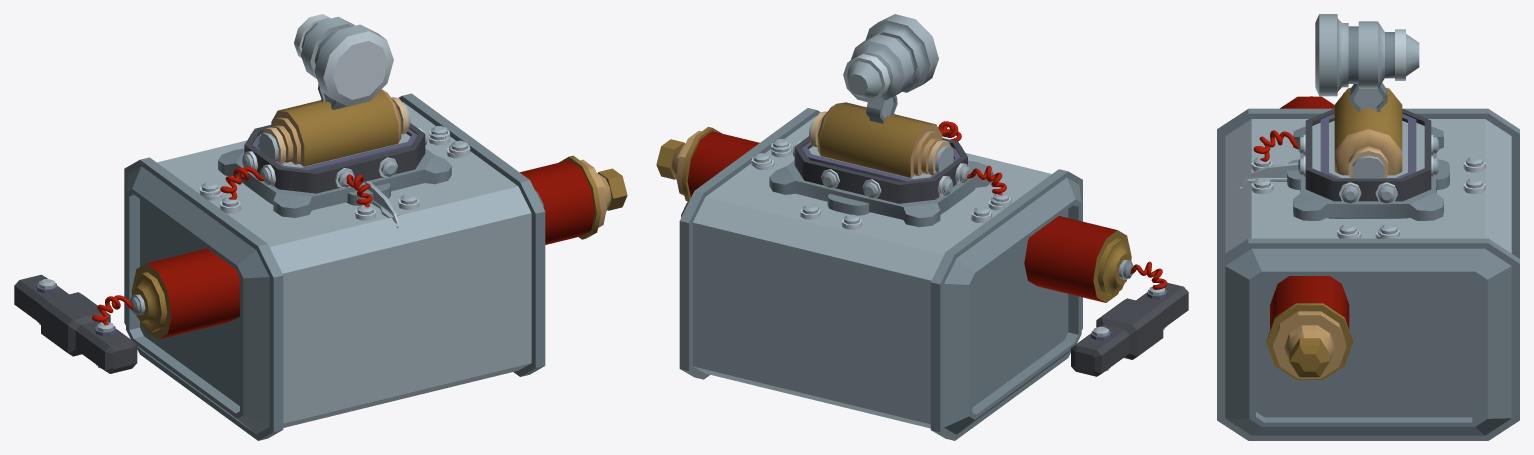
The model's file is DCTRW_parts.fbx.
3 renders of one model, left to right at view 1: azimuth 30°, elevation 25°; view 2: azimuth 150°, elevation 25°; view 3: azimuth 270°, elevation 25°, orthographic. The views are drawn at different scales.
Visible parts, largest first — view 1: BombCase, boomStick, Timer, Hammer, Battery.001, BoomStickConnector, BatteryHolder, boomCap; view 2: BombCase, Timer, boomStick, Hammer, Battery.001, BoomStickConnector, BatteryHolder, boomCap; view 3: BombCase, Timer, Hammer, boomStick, Battery.001, boomCap, BatteryHolder, ScissorBottom, CurveWire.001.
Boxes of the visible parts, box(x1,y1,x2,y2) form: BombCase: box(124, 93, 545, 440); boomStick: box(130, 155, 601, 339); Timer: box(199, 123, 470, 220); Hammer: box(294, 14, 393, 109); Battery.001: box(271, 89, 401, 166); BoomStickConnector: box(14, 274, 137, 373); BatteryHolder: box(204, 97, 467, 213); boomCap: box(580, 159, 627, 227); BombCase: box(679, 108, 1082, 440); Timer: box(751, 136, 1011, 229); boomStick: box(681, 127, 1133, 302); Hammer: box(843, 14, 938, 123); Battery.001: box(817, 102, 942, 177); BoomStickConnector: box(1071, 282, 1188, 376); BatteryHolder: box(754, 111, 1006, 223); boomCap: box(656, 130, 701, 195); BombCase: box(1217, 108, 1519, 440); Timer: box(1251, 108, 1485, 238); Hammer: box(1315, 14, 1419, 112); boomStick: box(1266, 96, 1352, 379); Battery.001: box(1334, 87, 1402, 175); boomCap: box(1273, 311, 1346, 378); BatteryHolder: box(1287, 113, 1449, 238); ScissorBottom: box(1240, 162, 1298, 184); CurveWire.001: box(1253, 130, 1298, 161).
Size of the model in its own units: 435 by 270 by 209.
